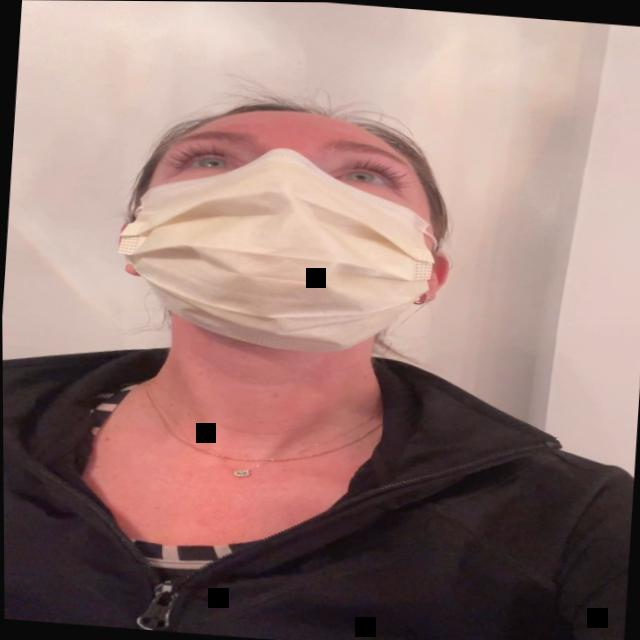Mask: (93, 84, 466, 388)
